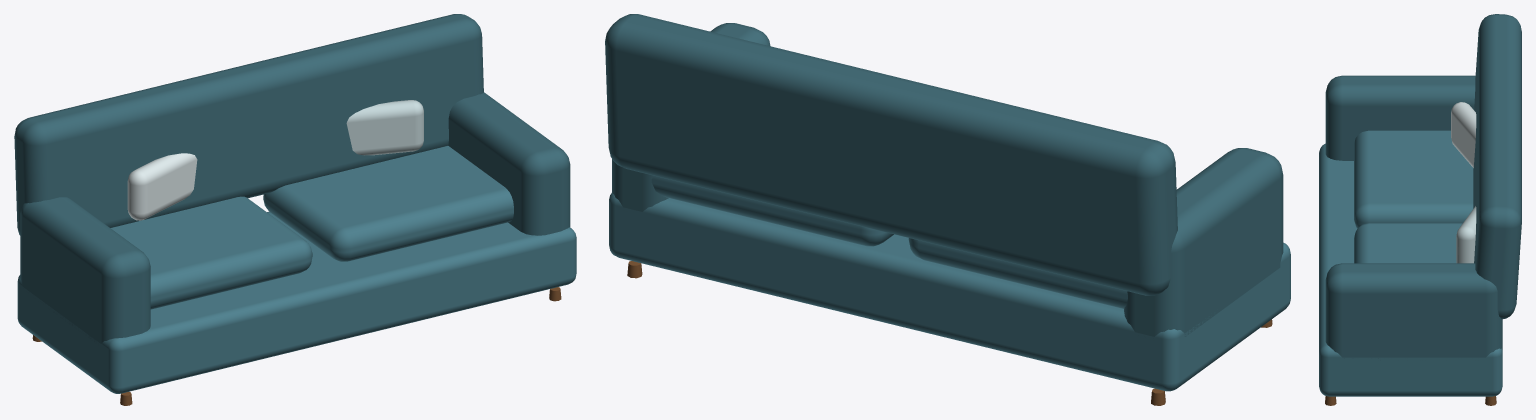
Rendered from sofa.glb.
3 renders of one model, left to right at view 1: azimuth 30°, elevation 25°; view 2: azimuth 150°, elevation 25°; view 3: azimuth 270°, elevation 25°, orthographic. The views are drawn at different scales.
Size of the model in its own units: 2.96 by 1.3 by 1.22.
